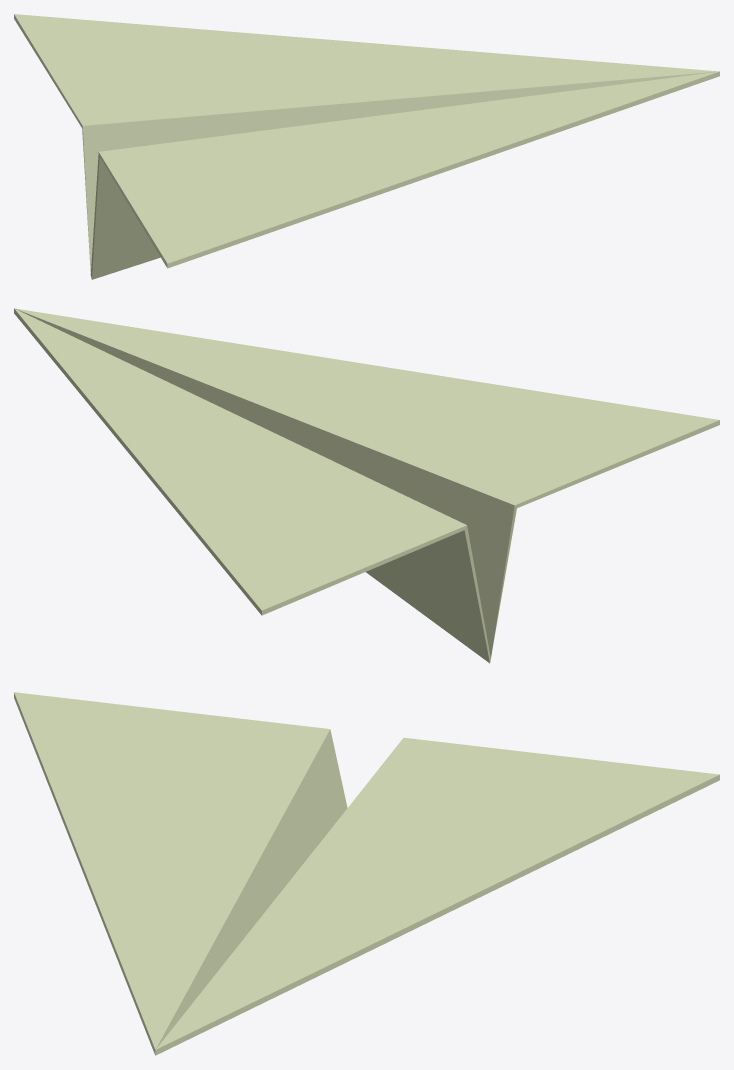
The model's file is paper_plane.gltf.
The picture shows the model from 3 angles, top to bottom: view 1: azimuth 30°, elevation 25°; view 2: azimuth 150°, elevation 25°; view 3: azimuth 270°, elevation 25°; orthographic projection. The views are drawn at different scales.
Parts seen in each view (by area): view 1: Plane; view 2: Plane; view 3: Plane.
Boxes of the visible parts, bbox=[...] form: Plane: bbox=[14, 14, 719, 279]; Plane: bbox=[14, 308, 719, 663]; Plane: bbox=[14, 692, 719, 1055].
Size of the model in its own units: 2.68 by 0.5904 by 2.23.
